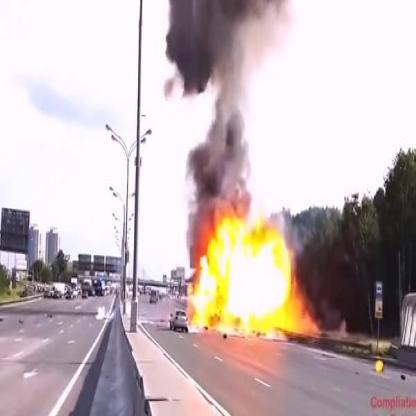fire: (188, 213, 322, 340), (375, 358, 384, 372)
